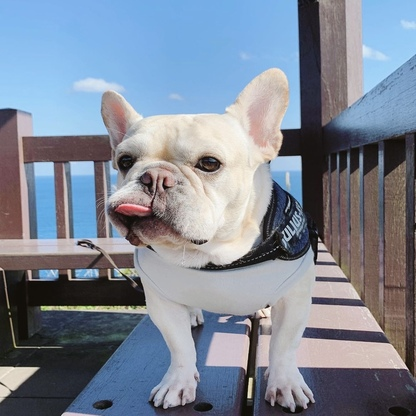bulldog: (97, 66, 322, 411)
